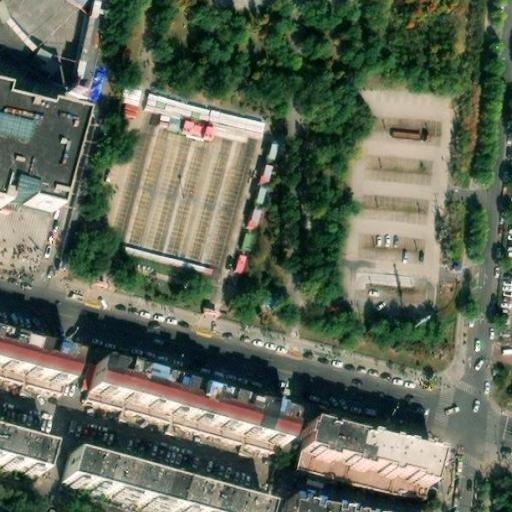building: (88, 356, 294, 444), (86, 389, 285, 453), (66, 452, 269, 512), (302, 426, 438, 490), (297, 453, 429, 501), (144, 84, 269, 130), (0, 432, 51, 475), (117, 81, 143, 114)
